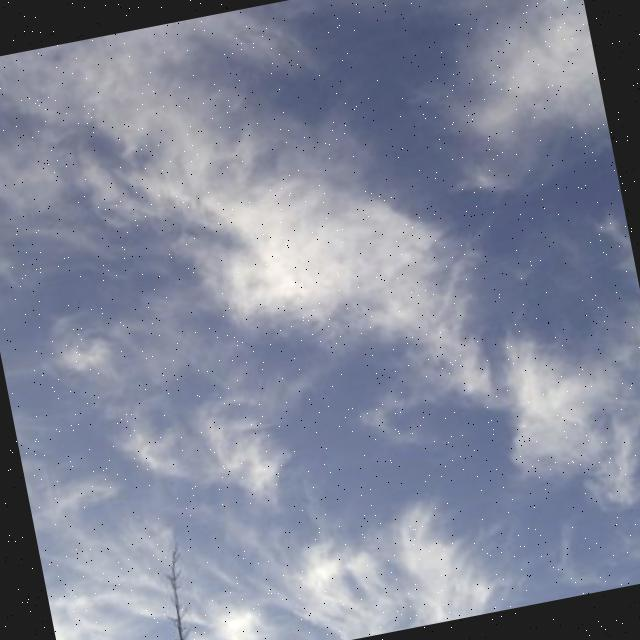Ci: (1, 1, 640, 561)
